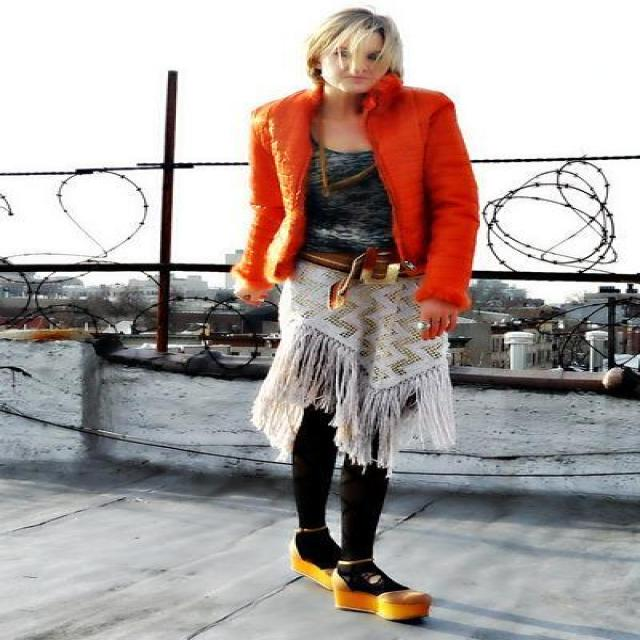jacket: (211, 67, 491, 307)
shirt: (302, 140, 393, 250)
shoe: (293, 555, 430, 626)
skirt: (250, 259, 478, 473)
